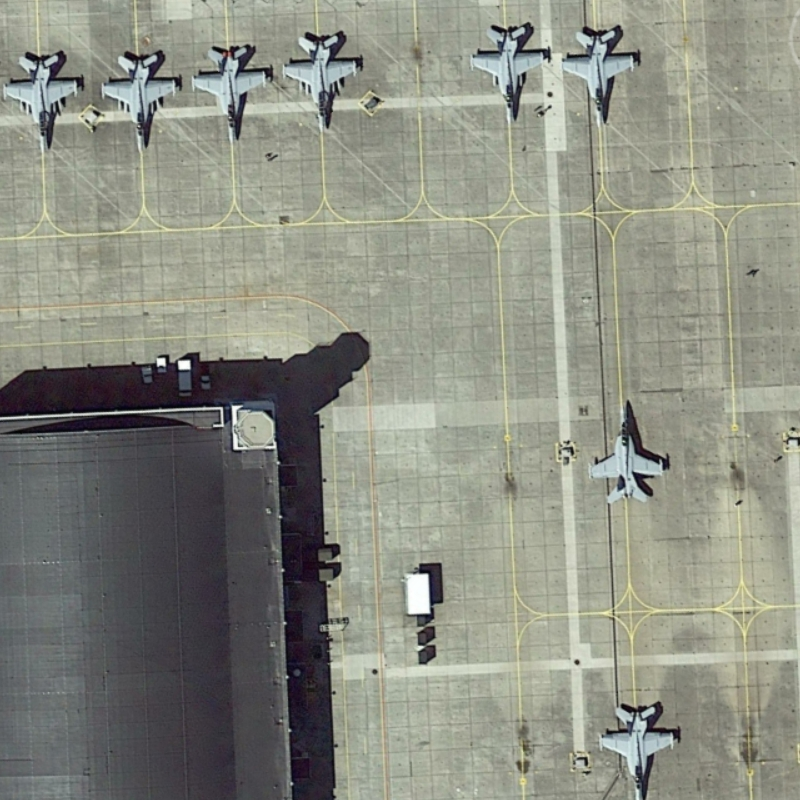A16: (459, 14, 553, 132), (554, 14, 643, 132), (583, 390, 672, 507), (1, 41, 85, 163), (276, 26, 368, 137), (186, 39, 273, 153), (592, 696, 687, 800), (99, 44, 184, 159)
